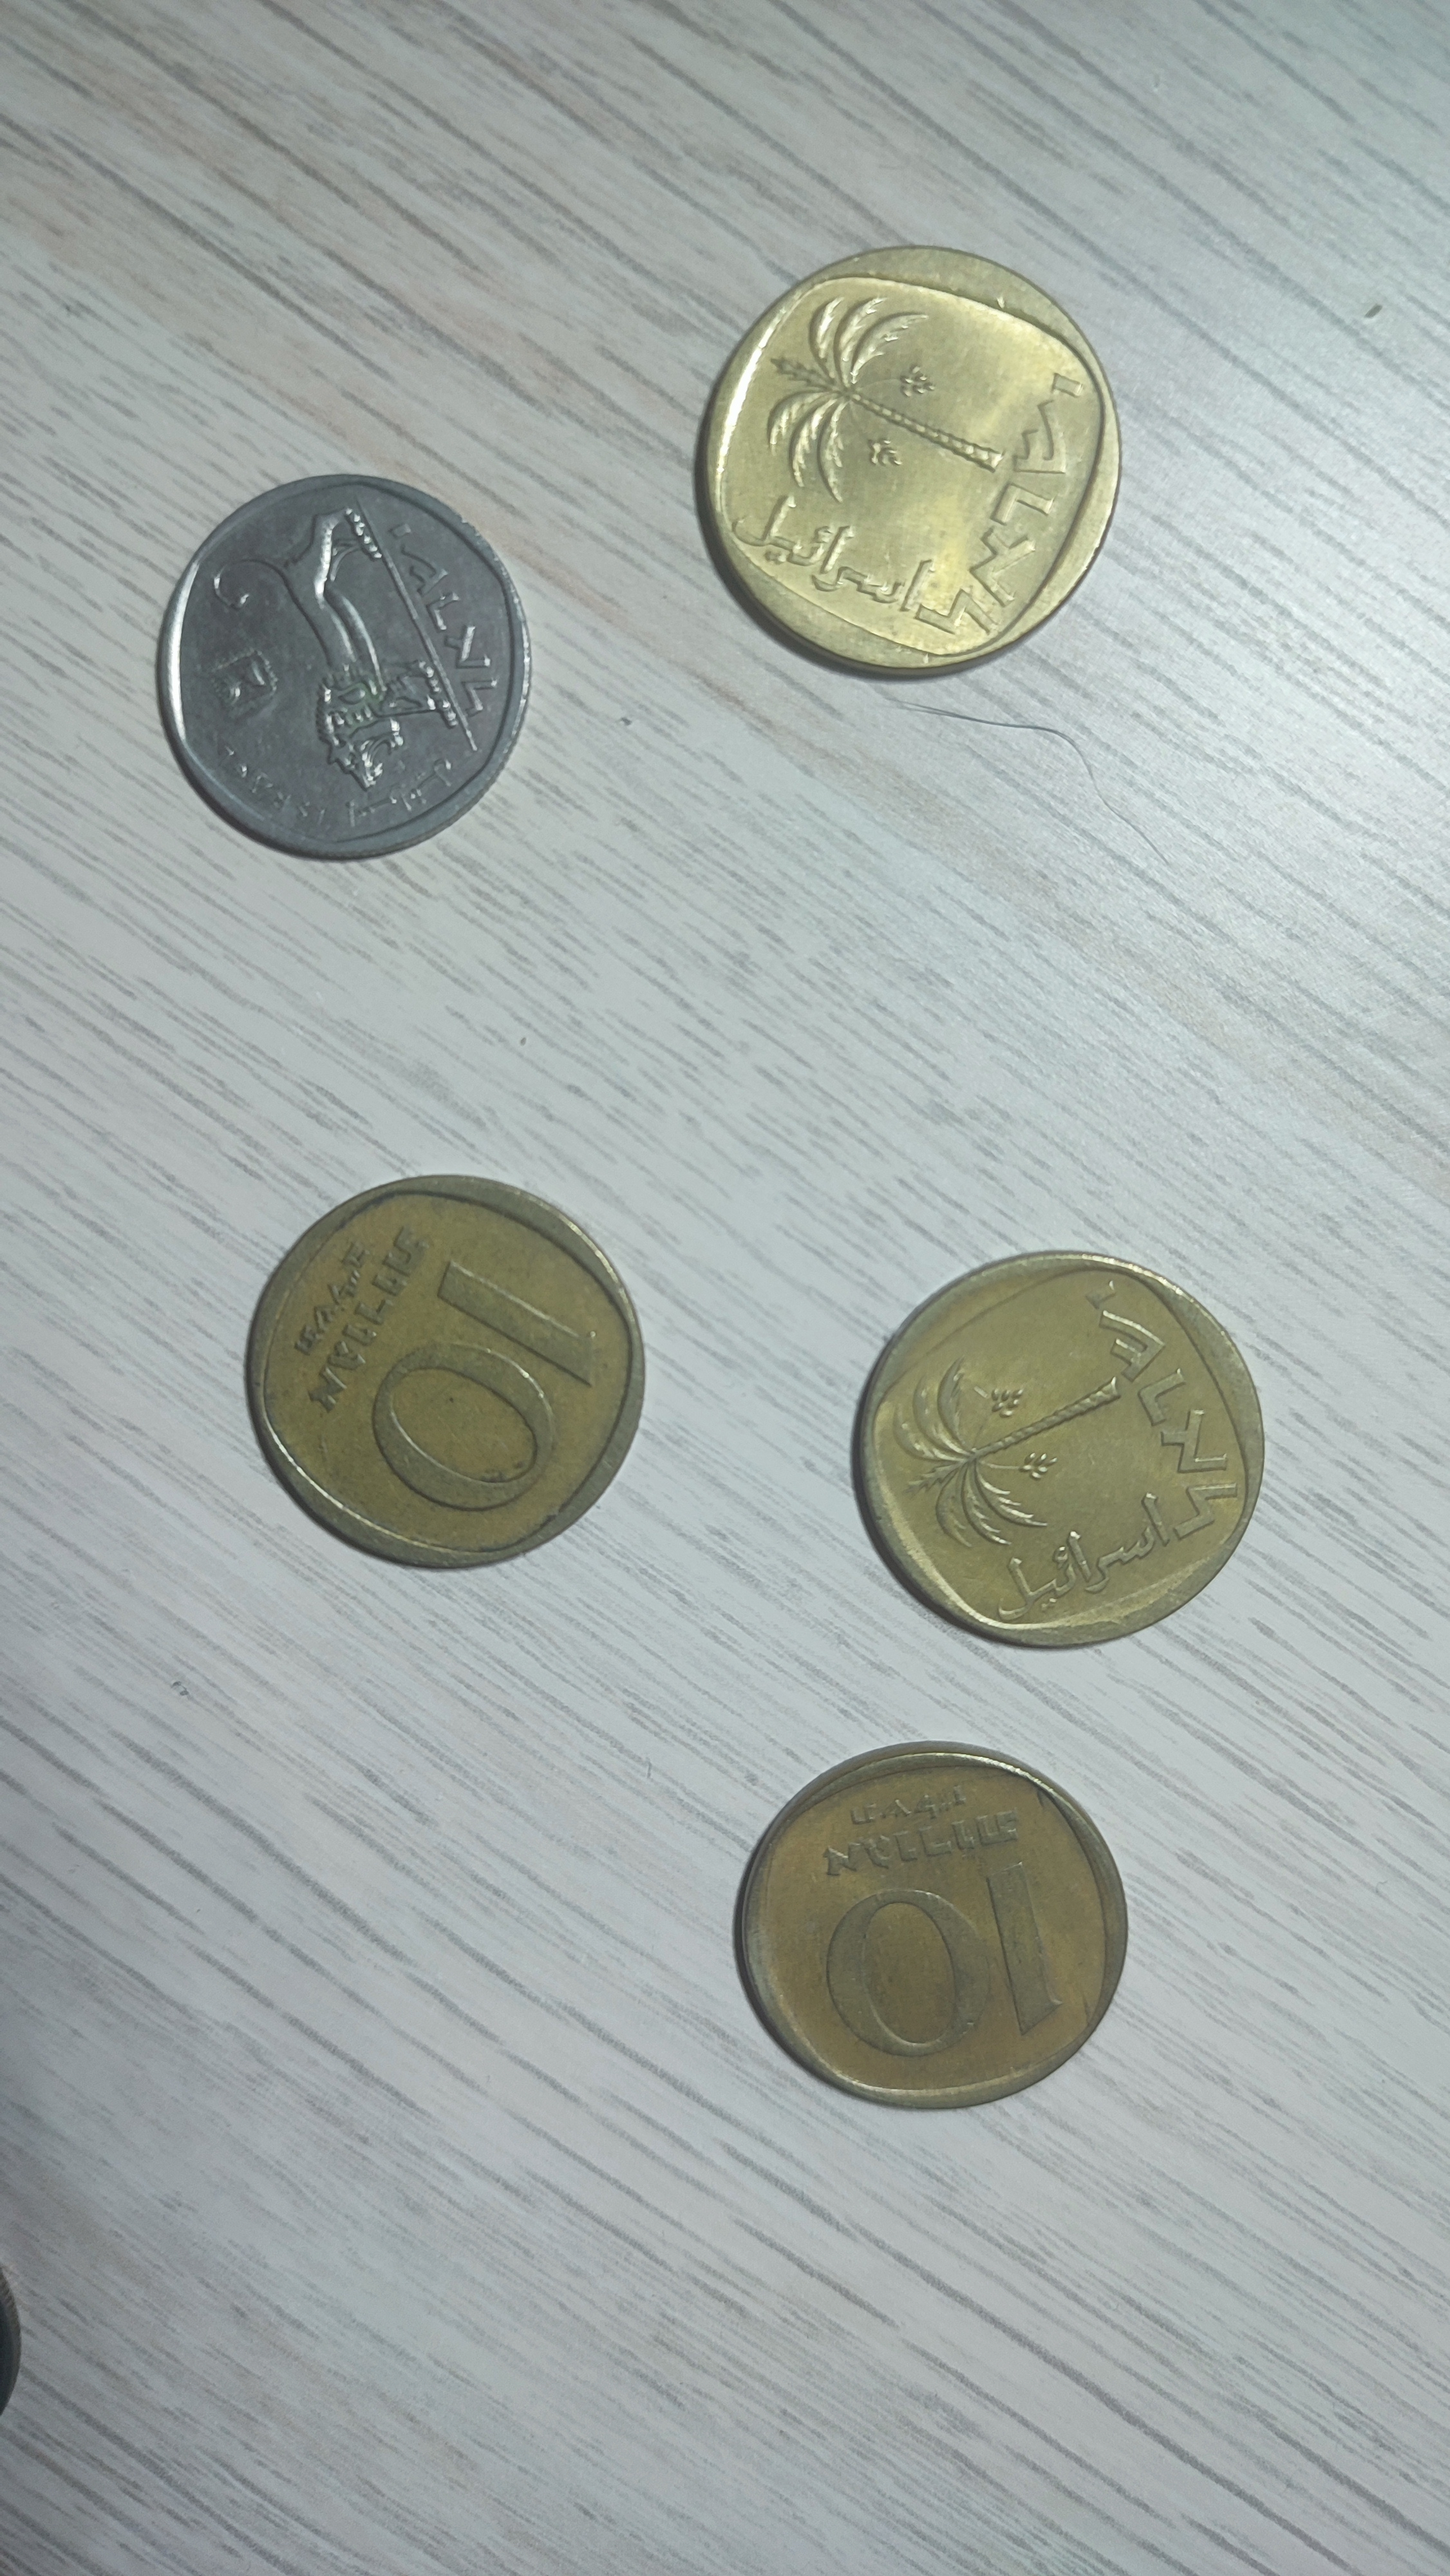1/2 old sheqel: (145, 458, 536, 878)
10 old agora brown: (677, 225, 1139, 690), (835, 1237, 1277, 1661), (232, 1169, 654, 1575), (727, 1734, 1139, 2118)
